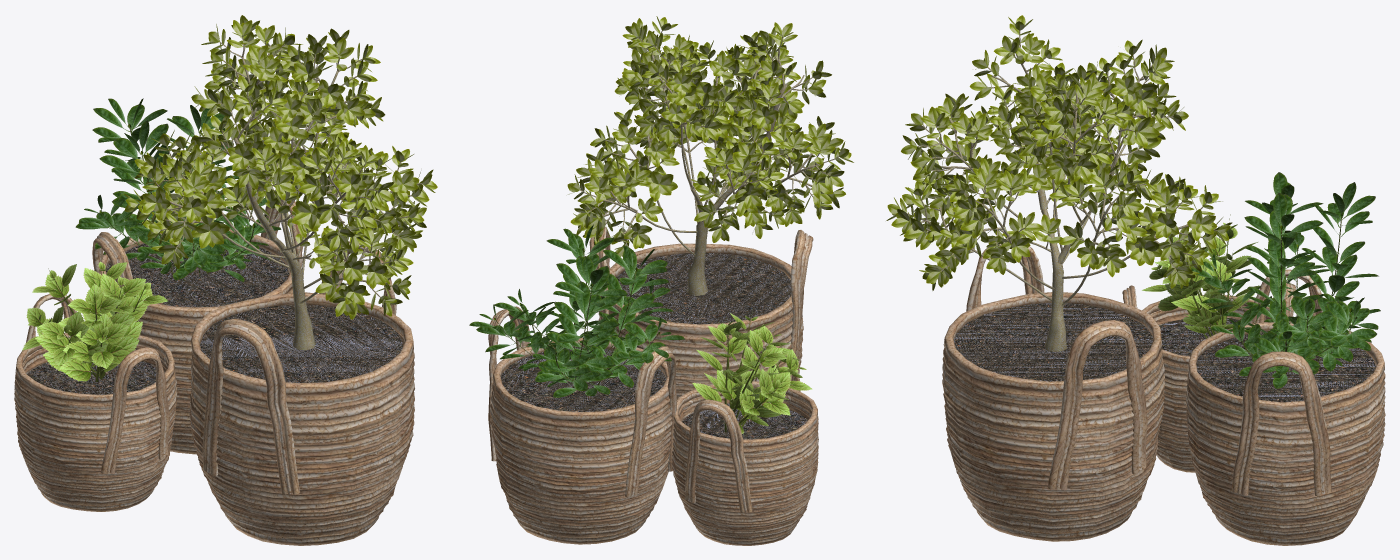
The picture shows the model from 3 angles, left to right: view 1: azimuth 30°, elevation 25°; view 2: azimuth 150°, elevation 25°; view 3: azimuth 270°, elevation 25°; orthographic projection. The views are drawn at different scales.
Visible parts, largest first — view 1: _Defintion_1 (×8), Galvanized_Planters_Component_02, Galvanized_Planters_Component_05, Galvanized_Planters_Component_07, Galvanized_Planters_Component_19, Galvanized_Planters_Component_35 (×2); view 2: _Defintion_1 (×8), Galvanized_Planters_Component_02, Galvanized_Planters_Component_05, Galvanized_Planters_Component_07, Galvanized_Planters_Component_19; view 3: _Defintion_1 (×7), Galvanized_Planters_Component_02, Galvanized_Planters_Component_05, Galvanized_Planters_Component_19, Galvanized_Planters_Component_07.
Part boxes in pixels (<box>): _Defintion_1 (×8): <box>14,199,414,545</box>; Galvanized_Planters_Component_02: <box>200,305,402,382</box>; Galvanized_Planters_Component_05: <box>106,241,288,307</box>; Galvanized_Planters_Component_07: <box>27,361,156,394</box>; Galvanized_Planters_Component_19: <box>271,237,315,350</box>; Galvanized_Planters_Component_35 (×2): <box>59,335,139,381</box>; _Defintion_1 (×8): <box>488,230,818,545</box>; Galvanized_Planters_Component_02: <box>616,252,791,324</box>; Galvanized_Planters_Component_05: <box>500,347,665,411</box>; Galvanized_Planters_Component_07: <box>682,403,807,439</box>; Galvanized_Planters_Component_19: <box>687,187,736,295</box>; _Defintion_1 (×7): <box>942,244,1385,545</box>; Galvanized_Planters_Component_02: <box>953,303,1153,381</box>; Galvanized_Planters_Component_05: <box>1196,332,1376,402</box>; Galvanized_Planters_Component_19: <box>1041,208,1067,351</box>; Galvanized_Planters_Component_07: <box>1159,318,1238,356</box>.
Bounding box in the file's own units: 25.98 × 37.42 × 38.18.
11 materials, 8 textured.
